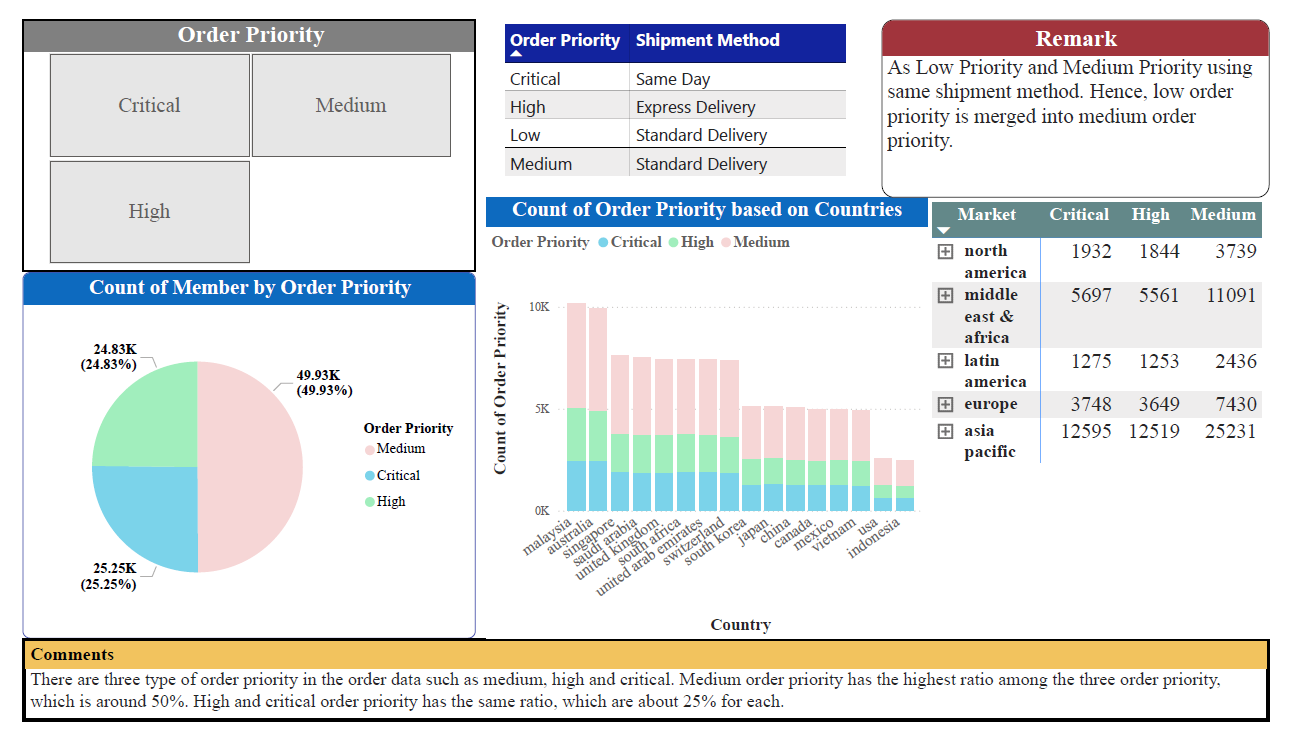

The page's visual inventory and layout, read from the dashboard file:
{"tool":"powerbi","page":{"name":"Shipping Efficiency","canvas":[1280,720],"ordinal":10},"visuals":[{"type":"pieChart","title":"Count of Member by Order Priority","fields":{"Category":["orderpriority.Order Priority"],"Y":["CountNonNull(orderdata.member id)"]},"box":[0,258.9,464.9,376.1],"z":0},{"type":"slicer","title":"Order Priority","fields":{"Values":["orderpriority.Order Priority"]},"box":[0,0,464.9,258.9],"z":1000},{"type":"textbox","title":"Comments","box":[0,635,1279.4,85],"z":2000},{"type":"tableEx","fields":{"Values":["orderpriority.Order Priority","orderpriority.Shipment Method"]},"box":[489.5,0,368.5,183.3],"z":3000},{"type":"pivotTable","fields":{"Columns":["orderpriority.Order Priority"],"Rows":["country.market","member data.member name"],"Values":["CountNonNull(orderdata.member id)"]},"box":[927.9,183.3,351.5,451.7],"z":4000},{"type":"columnChart","title":"Count of Order Priority based on Countries","fields":{"Category":["country.country"],"Series":["orderpriority.Order Priority"],"Y":["CountNonNull(orderdata.order priority)"]},"box":[476.2,183.3,451.7,451.7],"z":5000},{"type":"textbox","title":"Remark","box":[880.6,0,398.7,183.3],"z":6000}]}

Visuals, with their boxes in screenshot pixels (x1, y1, x2, y2), scaled from the page's 1280x720 canvas onto the 1293x742 screenshot:
"Count of Member by Order Priority" pieChart: <region>0, 267, 470, 654</region>
"Order Priority" slicer: <region>0, 0, 470, 267</region>
"Comments" textbox: <region>0, 654, 1292, 741</region>
tableEx - orderpriority.Order Priority x orderpriority.Shipment Method: <region>494, 0, 867, 189</region>
pivotTable - orderpriority.Order Priority x country.market: <region>937, 189, 1292, 654</region>
"Count of Order Priority based on Countries" columnChart: <region>481, 189, 937, 654</region>
"Remark" textbox: <region>890, 0, 1292, 189</region>
